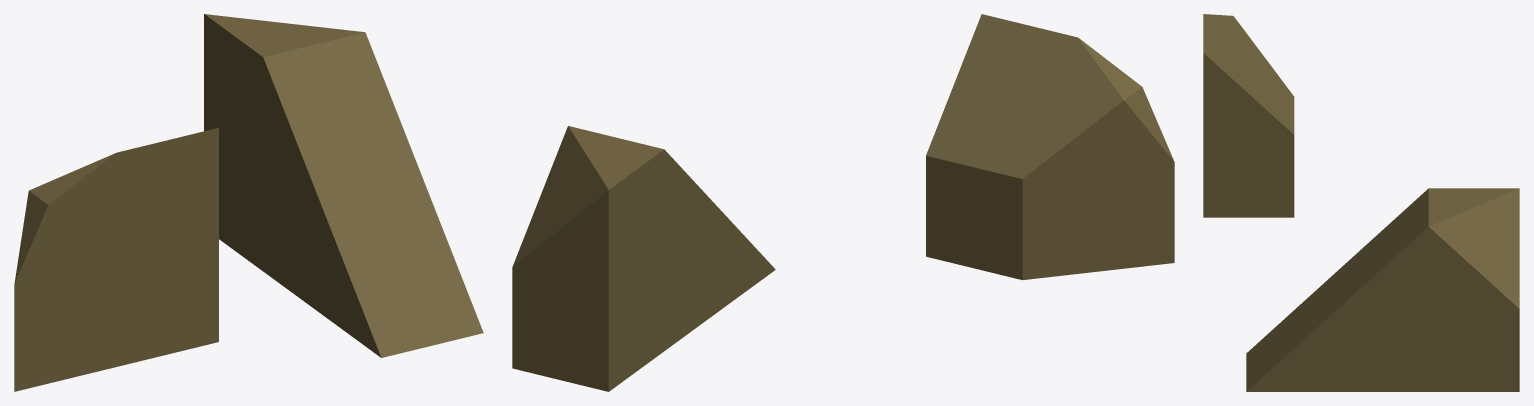
Rendered from Debris2.fbx.
3 renders of one model, left to right at view 1: azimuth 30°, elevation 25°; view 2: azimuth 150°, elevation 25°; view 3: azimuth 270°, elevation 25°, orthographic. The views are drawn at different scales.
Parts seen in each view (by area): view 1: Cube_cell.011, Cube_cell.010; view 2: Cube_cell.010, Cube_cell.011; view 3: Cube_cell.011, Cube_cell.010.
Part boxes in pixels (<box>): Cube_cell.011: <box>204,14,483,357</box>; Cube_cell.010: <box>14,128,218,391</box>; Cube_cell.010: <box>926,14,1174,280</box>; Cube_cell.011: <box>512,126,775,391</box>; Cube_cell.011: <box>1246,188,1519,391</box>; Cube_cell.010: <box>1203,14,1294,217</box>.
Size of the model in its own units: 394 by 225 by 281.
